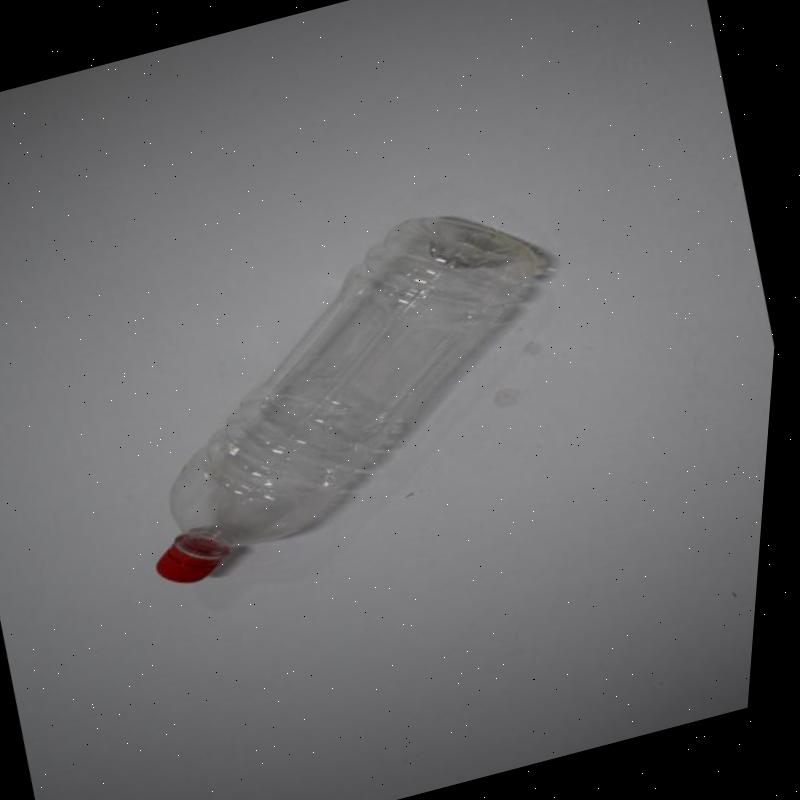botella: (91, 190, 618, 594)
